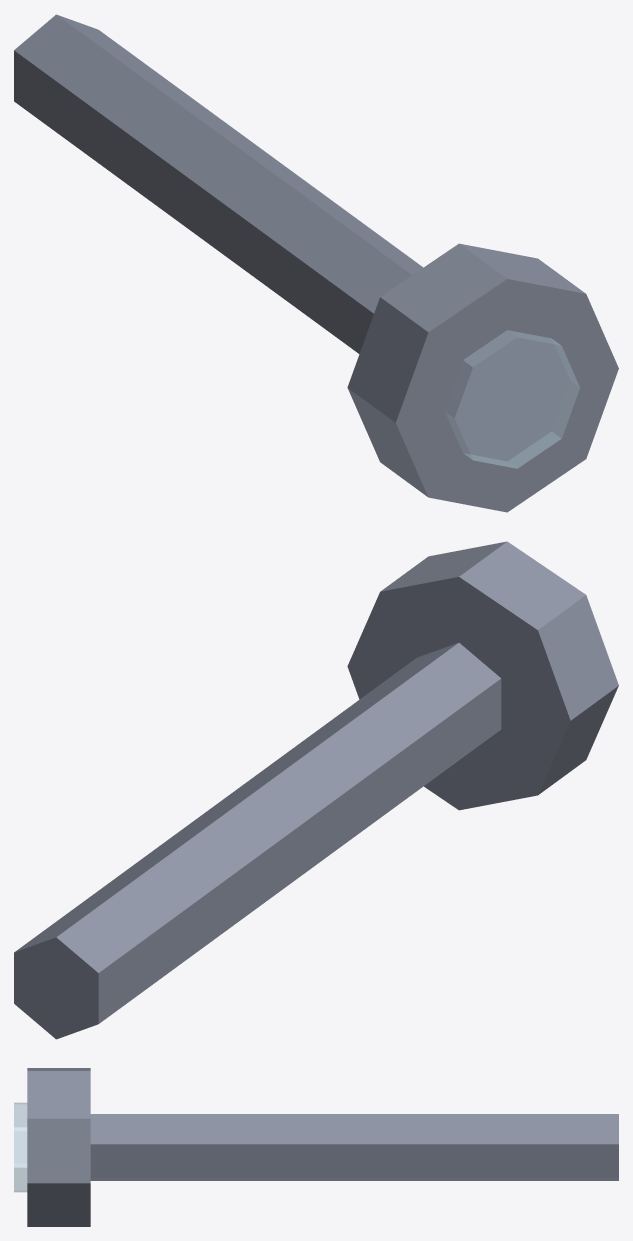
Rendered from Door_Peephole.fbx.
3 renders of one model, top to bottom at view 1: azimuth 30°, elevation 25°; view 2: azimuth 150°, elevation 25°; view 3: azimuth 270°, elevation 25°, orthographic. The views are drawn at different scales.
Visible parts, largest first — view 1: Door_Peephole; view 2: Door_Peephole; view 3: Door_Peephole.
Boxes of the visible parts, x1=… form: Door_Peephole: x1=14, y1=14, x2=618, y2=512; Door_Peephole: x1=14, y1=541, x2=618, y2=1039; Door_Peephole: x1=14, y1=1068, x2=618, y2=1226.
Size of the model in its own units: 0.032 by 0.032 by 0.1145.
2 materials, 1 textured.
